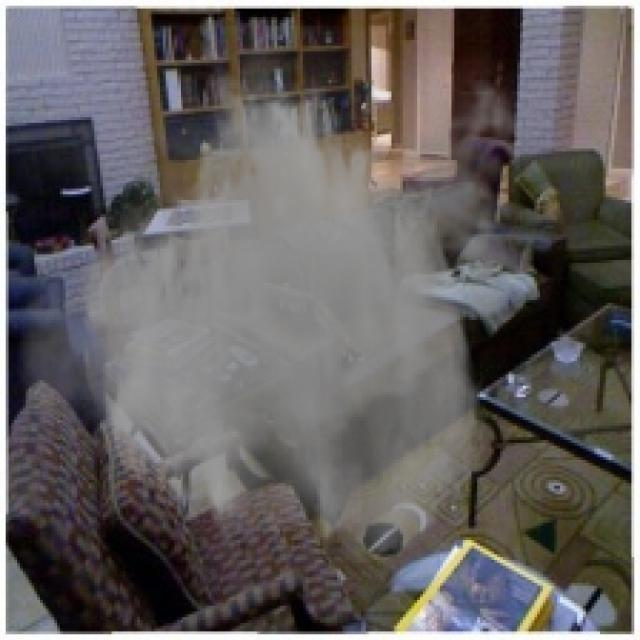Smoke: (6, 26, 543, 568)
